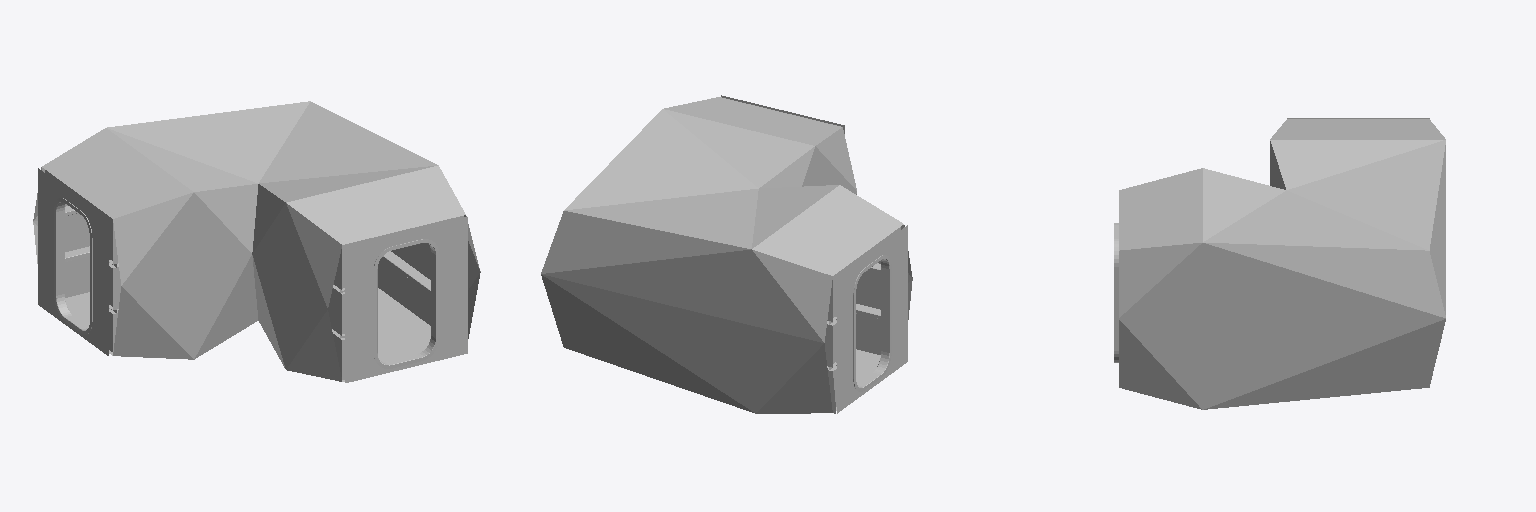
The model's file is Corner.obj.
3 renders of one model, left to right at view 1: azimuth 30°, elevation 25°; view 2: azimuth 150°, elevation 25°; view 3: azimuth 270°, elevation 25°, orthographic.
Parts seen in each view (by area): view 1: Cube.040_Cube.025; view 2: Cube.040_Cube.025; view 3: Cube.040_Cube.025.
Boxes of the visible parts, box(x1,y1,x2,y2) form: Cube.040_Cube.025: box(33, 101, 480, 382); Cube.040_Cube.025: box(541, 95, 912, 413); Cube.040_Cube.025: box(1114, 118, 1445, 409).
Bounding box in the file's own units: 19.8 × 11 × 19.8.